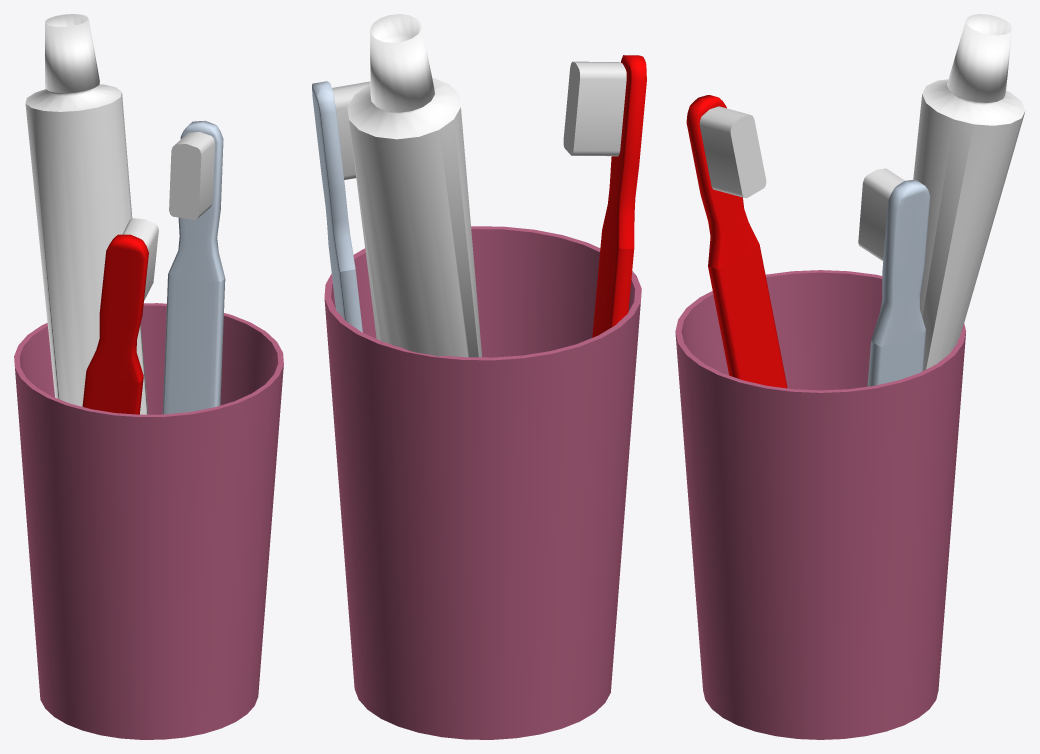
File: tooth_brushes_and_paste.glb
3 views of the same model, side by side, from view 1: azimuth 30°, elevation 25°; view 2: azimuth 150°, elevation 25°; view 3: azimuth 270°, elevation 25° (orthographic). The views are drawn at different scales.
Visible parts, largest first — view 1: Object_3, Object_4, Object_2, Object_5, Object_6; view 2: Object_3, Object_4, Object_5, Object_6, Object_2; view 3: Object_3, Object_4, Object_5, Object_2, Object_6.
Boxes of the visible parts, box(x1,y1,x2,y2) form: Object_3: box(14, 303, 283, 739); Object_4: box(25, 14, 148, 414); Object_2: box(162, 120, 225, 414); Object_5: box(82, 234, 148, 414); Object_6: box(122, 132, 214, 300); Object_3: box(324, 226, 641, 739); Object_4: box(347, 14, 481, 357); Object_5: box(592, 55, 646, 337); Object_6: box(332, 61, 626, 180); Object_2: box(312, 81, 362, 332); Object_3: box(675, 270, 966, 739); Object_4: box(913, 14, 1025, 370); Object_5: box(686, 95, 787, 388); Object_2: box(867, 180, 930, 386); Object_6: box(699, 106, 904, 260).
Size of the model in its own units: 7.2 by 18.23 by 8.67.
